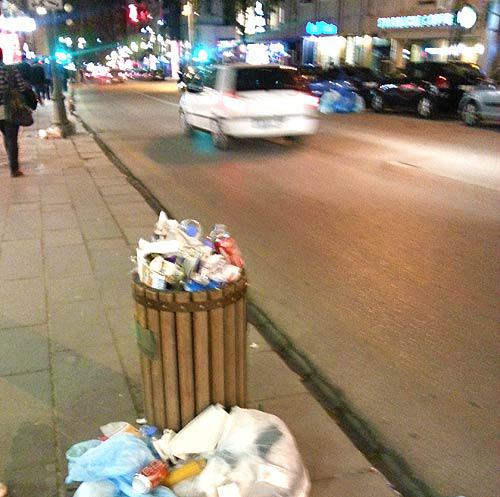Container: (127, 277, 253, 438), (135, 288, 249, 404)
Garbage: (173, 396, 305, 497), (46, 406, 180, 497), (132, 208, 246, 289), (212, 405, 298, 497), (69, 439, 180, 497), (176, 404, 225, 466), (155, 212, 201, 250), (135, 252, 180, 290), (139, 237, 183, 267), (99, 417, 137, 449), (200, 256, 246, 279), (216, 230, 248, 263), (189, 278, 229, 296), (144, 411, 163, 442)
